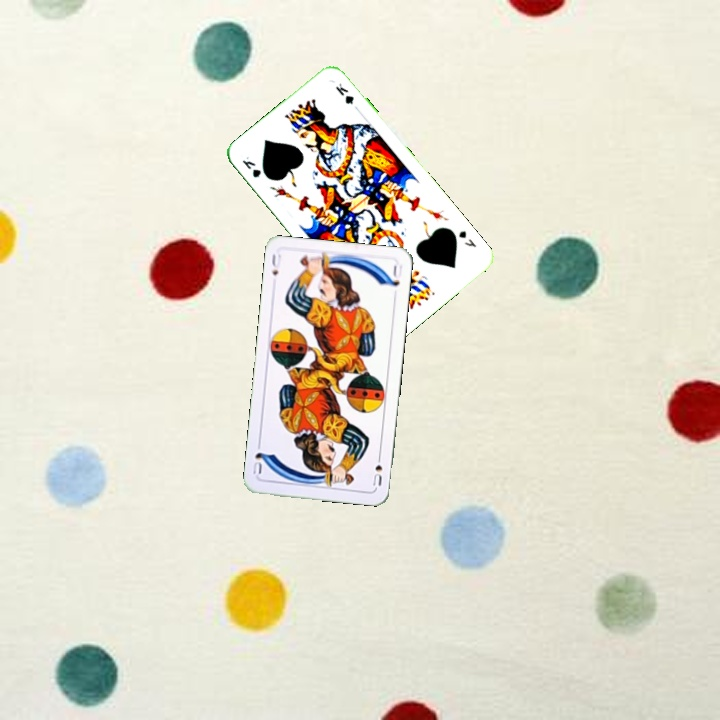GK: (238, 152, 264, 180), (454, 226, 479, 250)
SU: (369, 449, 385, 488), (267, 250, 284, 278)
